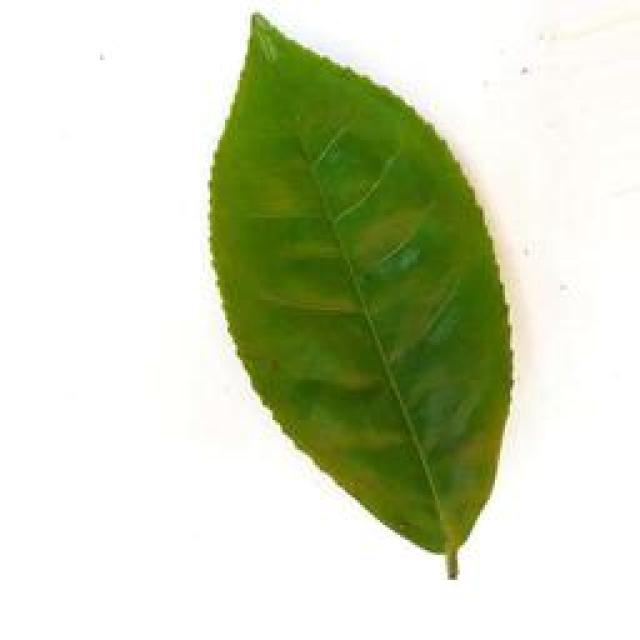Healthy: (200, 23, 518, 578)
